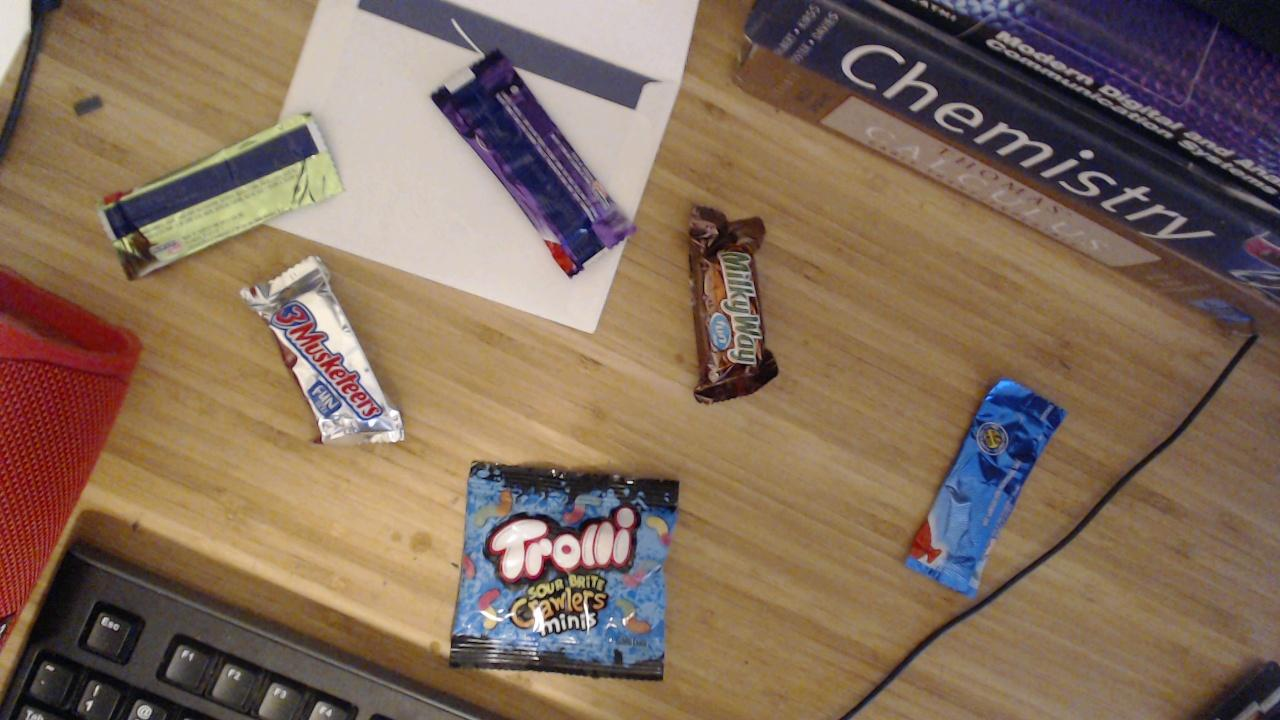Trolli: (447, 463, 679, 681)
airheads: (426, 48, 636, 281), (97, 113, 344, 280), (903, 378, 1065, 595)
milky_way: (691, 208, 779, 404)
musketeers: (242, 256, 404, 446)
